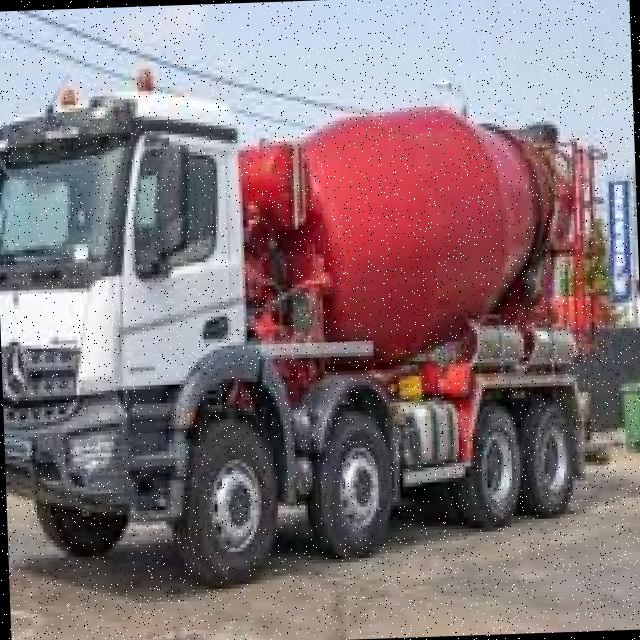Mixer Truck: (0, 48, 621, 592)
